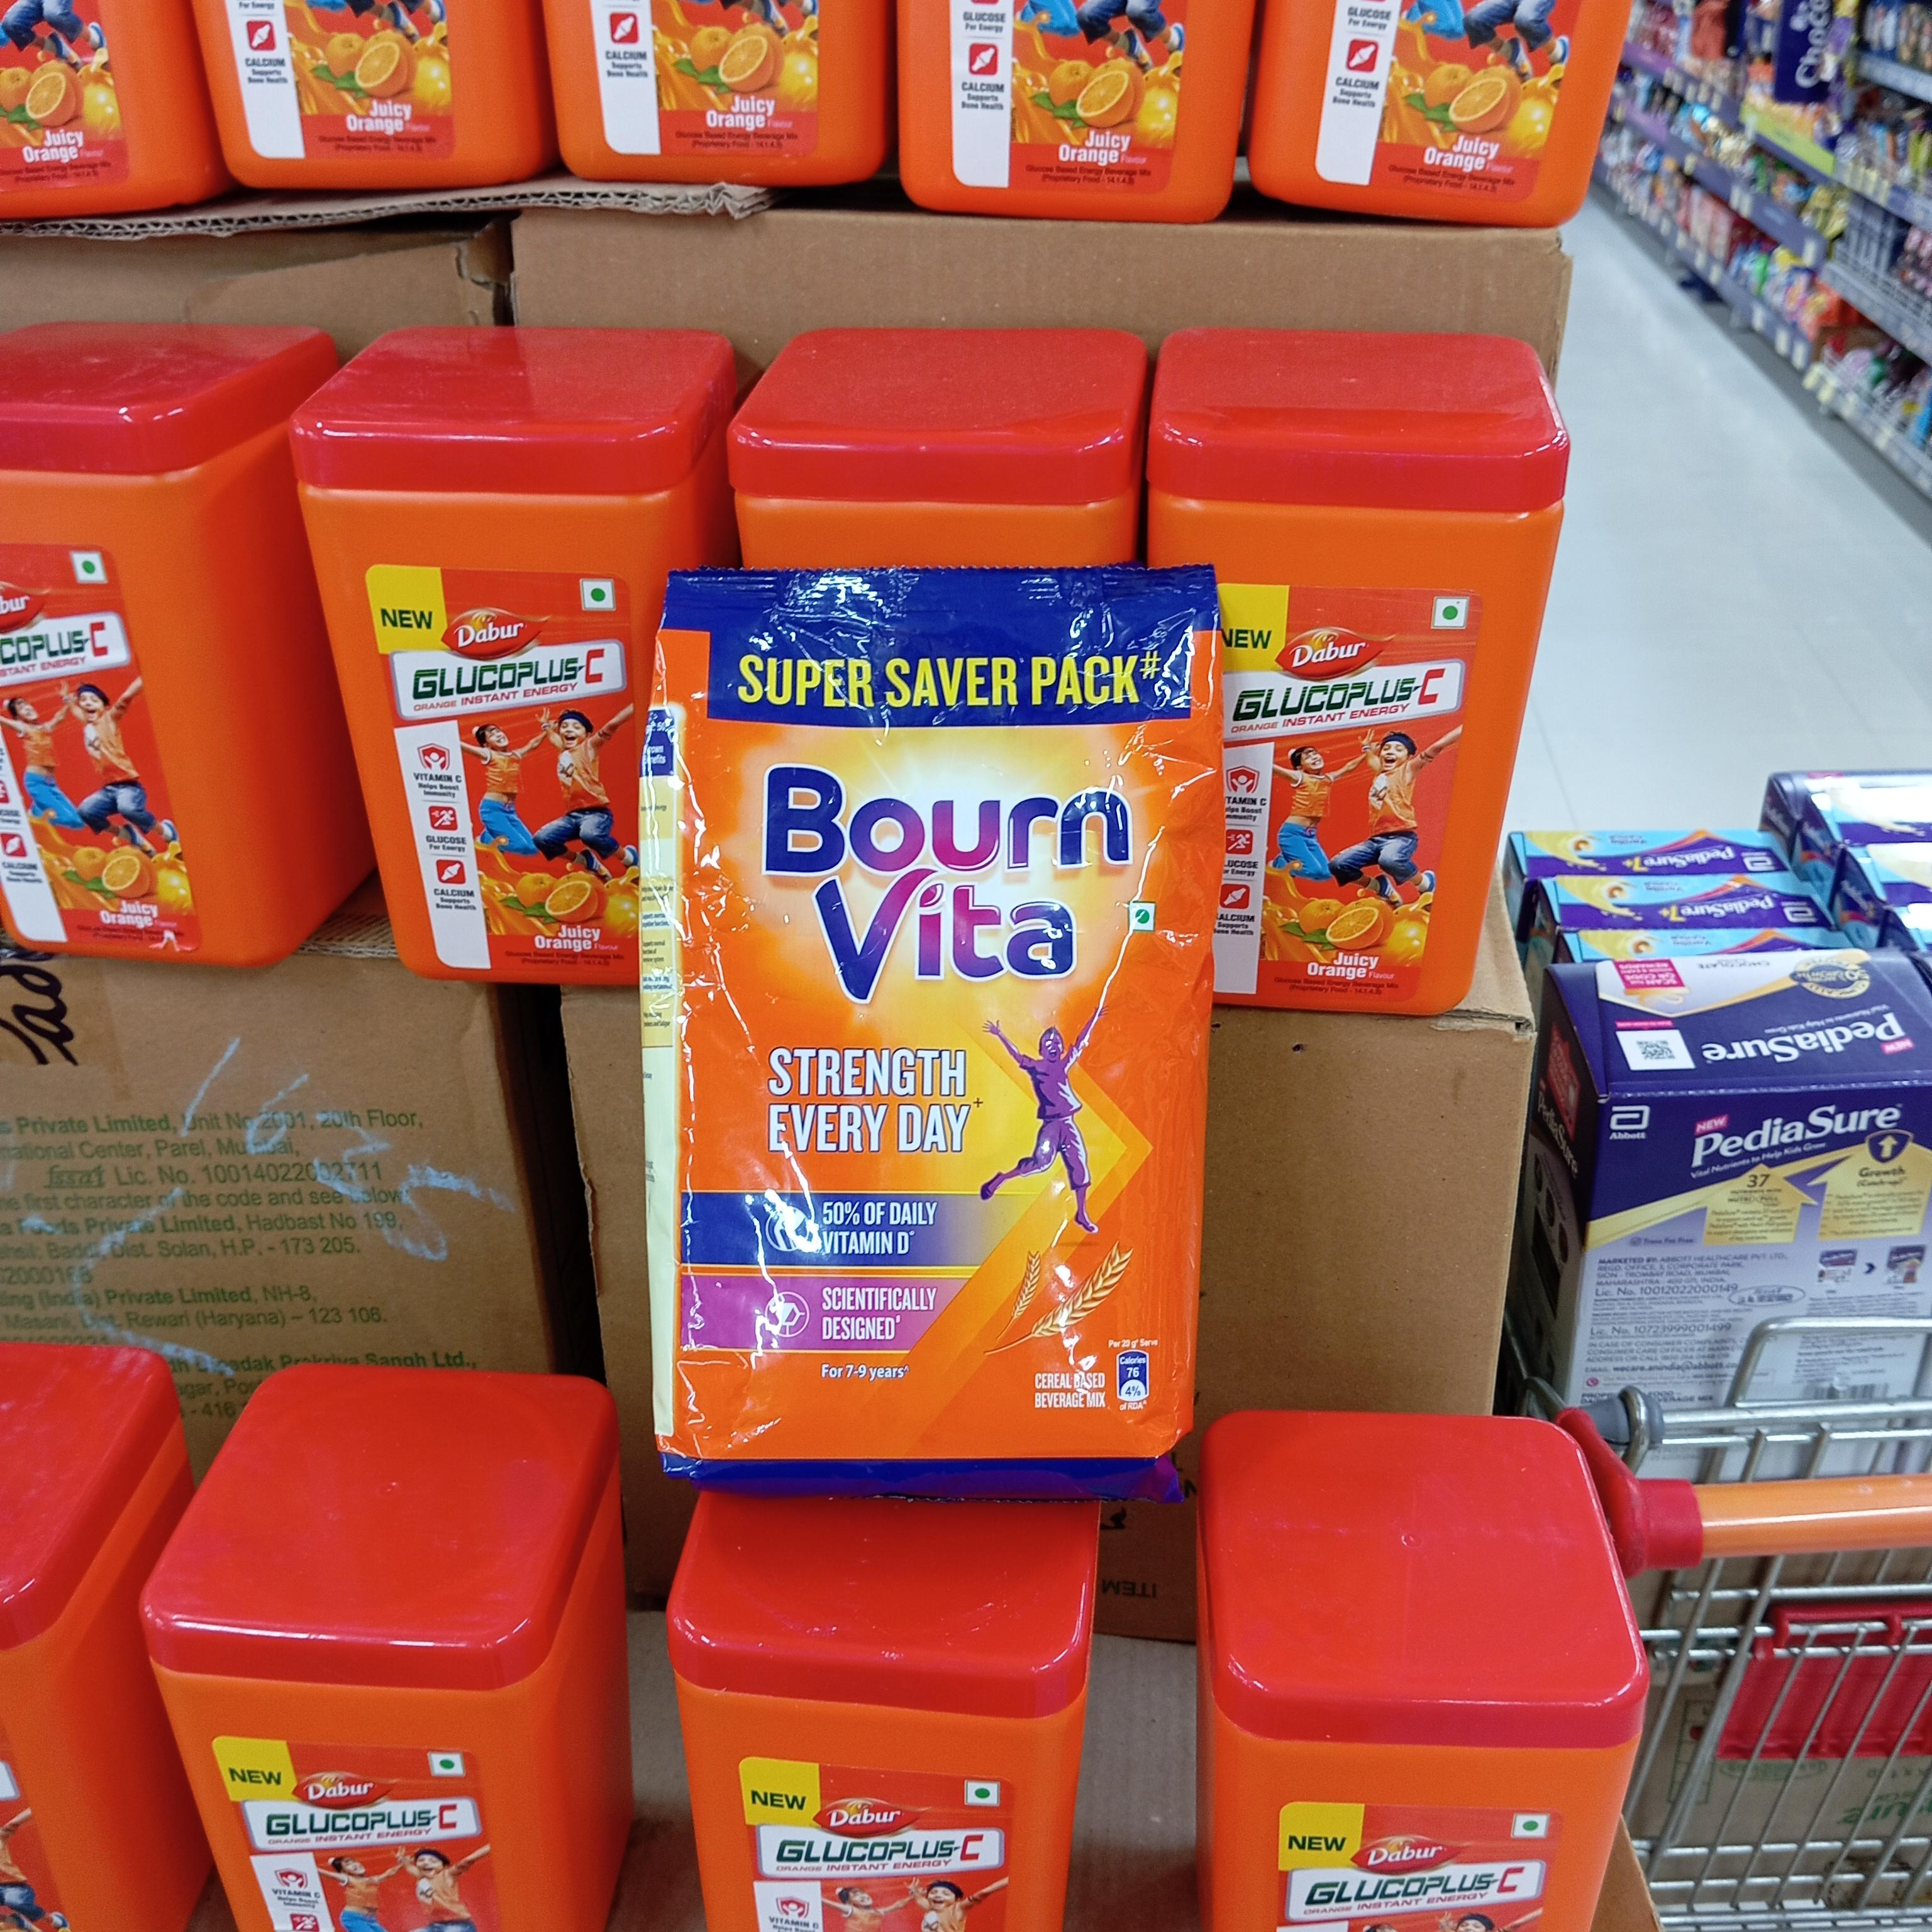BOURN_VITA_1_KG_POUCH: (632, 579, 1194, 1502)
